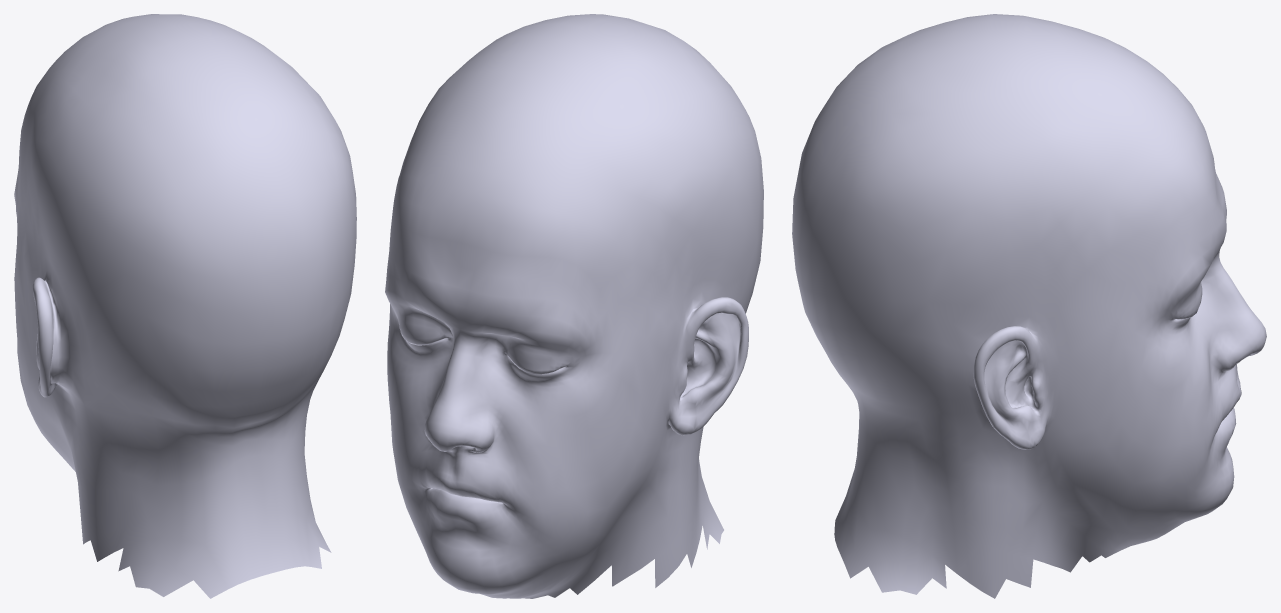
Rendered from villager-head-seated.glb.
The picture shows the model from 3 angles, left to right: view 1: azimuth 30°, elevation 25°; view 2: azimuth 150°, elevation 25°; view 3: azimuth 270°, elevation 25°; orthographic projection. The views are drawn at different scales.
Visible parts, largest first — view 1: SeatedVillagerHead; view 2: SeatedVillagerHead; view 3: SeatedVillagerHead.
Boxes of the visible parts, <box> form: SeatedVillagerHead: <box>14,14,356,598</box>; SeatedVillagerHead: <box>385,14,763,598</box>; SeatedVillagerHead: <box>792,14,1266,598</box>.
Bounding box in the file's own units: 0.2715 × 0.4138 × 0.3433.
